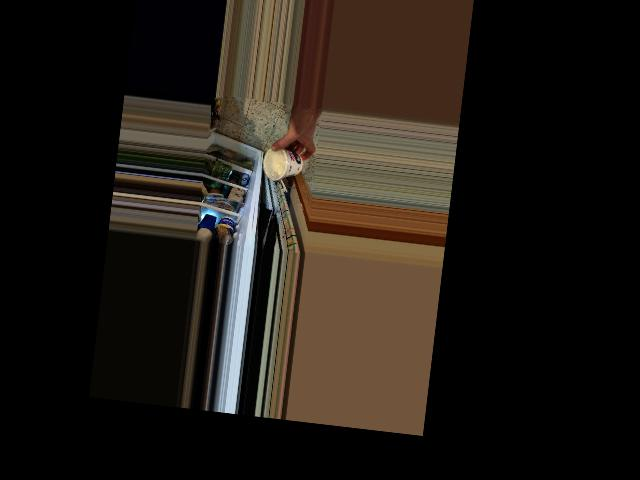cotage: (258, 144, 302, 181)
